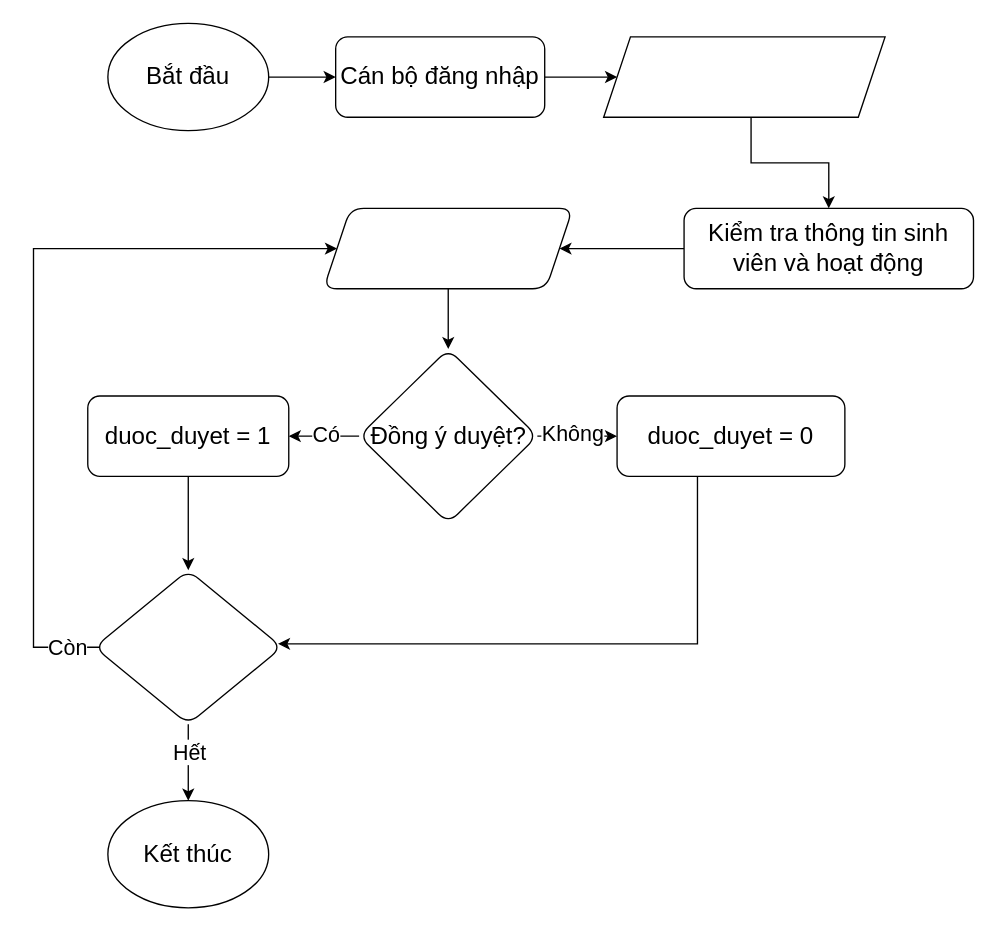
The diagram is 997 pixels wide and 931 high, and some of its shapes have lost their labels. Here are the shapes that lost their labels. From the top down, the centre of each, then its label:
At point 743,76: "Chọn đơn cần xét".
At point 447,248: "Kiểm tra ngày và ca đăng ký".
At point 187,646: "Còn ngày/ca cần xét?".
